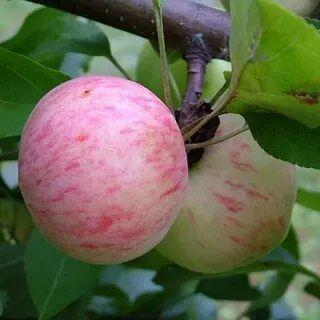Apple: (19, 76, 188, 264)
